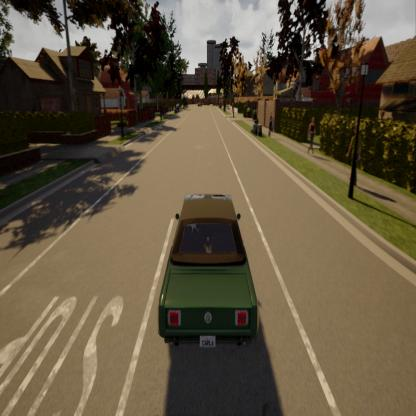Cars: (152, 190, 264, 355)
Pedestrian: (348, 125, 364, 186), (305, 113, 320, 161), (266, 112, 275, 138)
